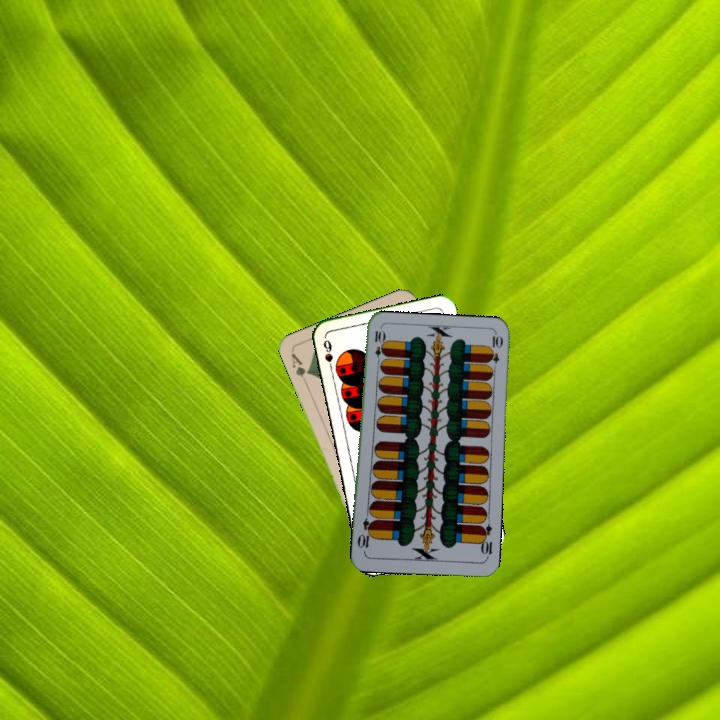E10: (476, 520, 495, 561), (371, 326, 385, 367)
GA: (287, 349, 312, 387)
S9: (319, 335, 336, 375)
